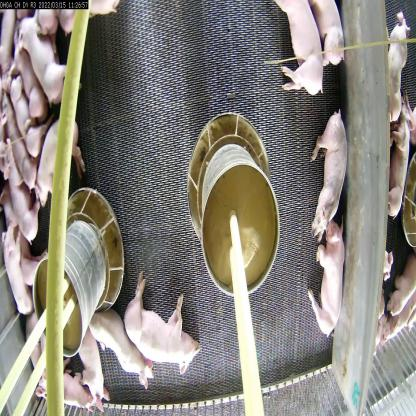Pig: (120, 258, 202, 376), (88, 308, 156, 394), (272, 0, 326, 107), (310, 104, 350, 244), (34, 111, 89, 209), (17, 11, 72, 99), (306, 220, 345, 337), (2, 138, 42, 242), (2, 66, 49, 151), (2, 90, 39, 194), (0, 216, 36, 321), (9, 32, 49, 126), (310, 0, 350, 74), (389, 11, 413, 129), (388, 111, 410, 219)
